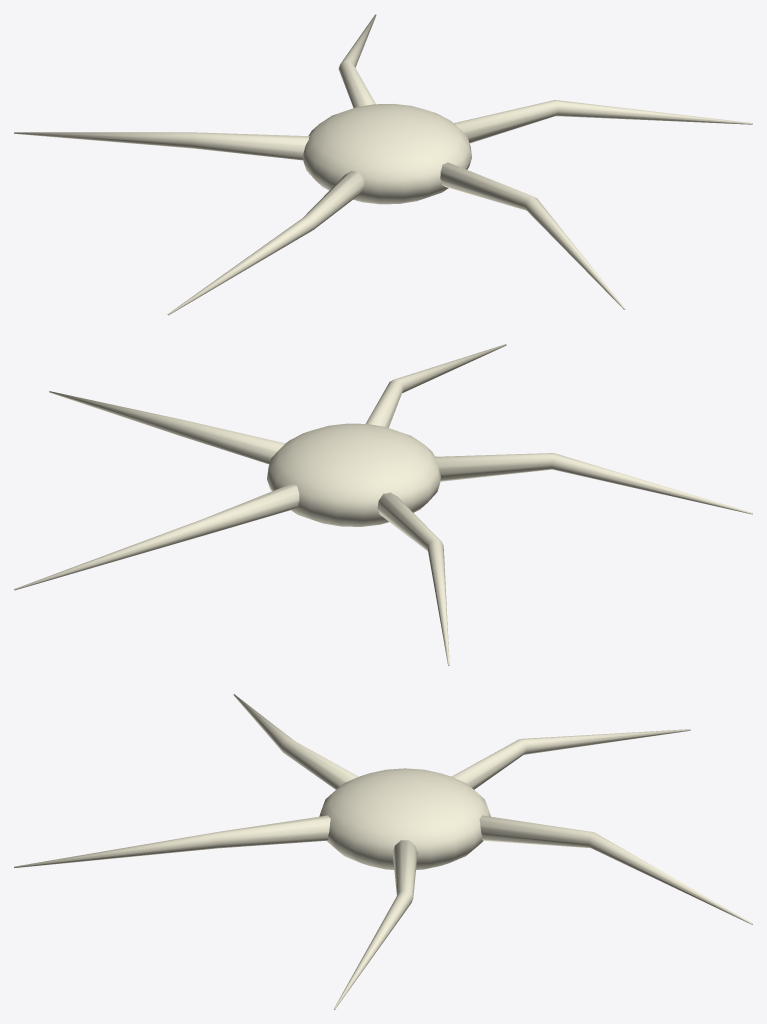
File: underwater-reef-worlds-brittle-star-00cf07c3__7029.glb
3 views of the same model, one above another, from view 1: azimuth 30°, elevation 25°; view 2: azimuth 150°, elevation 25°; view 3: azimuth 270°, elevation 25° (orthographic). The views are drawn at different scales.
Visible parts, largest first — view 1: brittle-star; view 2: brittle-star; view 3: brittle-star.
Boxes of the visible parts, x1=… form: brittle-star: x1=14, y1=14, x2=752, y2=315; brittle-star: x1=14, y1=344, x2=752, y2=665; brittle-star: x1=14, y1=694, x2=752, y2=1009.
Size of the model in its own units: 1.32 by 0.14 by 1.31.
